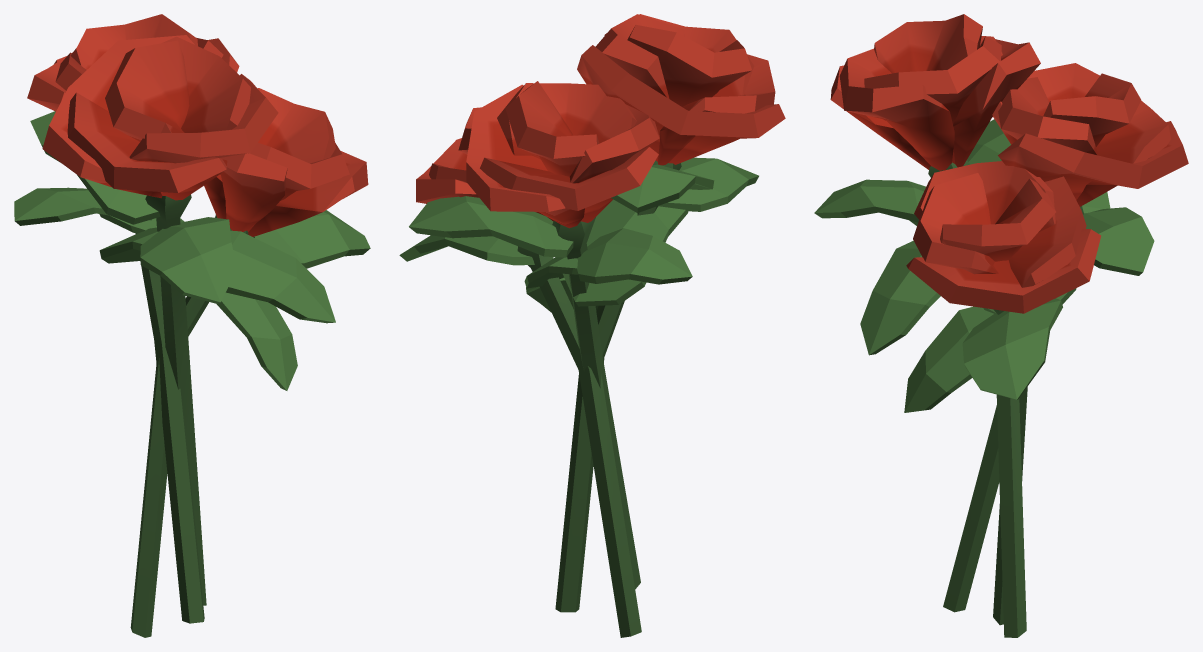
Rendered from SM_Prop_Rose_Bunch_01.fbx.
The picture shows the model from 3 angles, left to right: view 1: azimuth 30°, elevation 25°; view 2: azimuth 150°, elevation 25°; view 3: azimuth 270°, elevation 25°; orthographic projection. The views are drawn at different scales.
Visible parts, largest first — view 1: SM_Prop_Rose_Bunch_01; view 2: SM_Prop_Rose_Bunch_01; view 3: SM_Prop_Rose_Bunch_01.
Part boxes in pixels (<box>): SM_Prop_Rose_Bunch_01: <box>14,14,370,637</box>; SM_Prop_Rose_Bunch_01: <box>399,14,785,637</box>; SM_Prop_Rose_Bunch_01: <box>814,14,1188,637</box>.
Size of the model in its own units: 29.74 by 50.29 by 28.7.
1 material, 1 textured.
